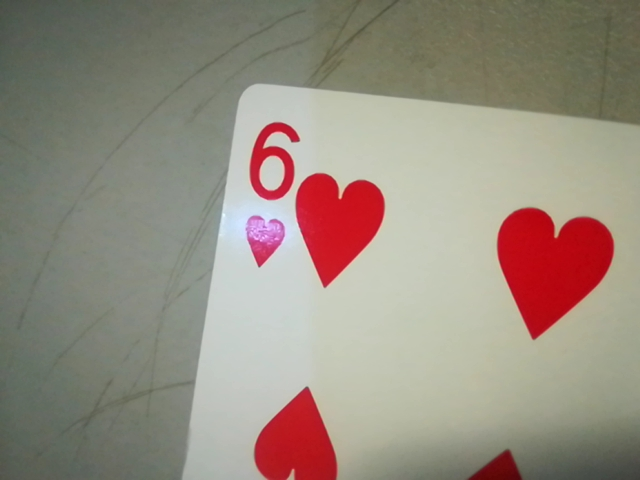hx 6: (234, 110, 304, 283)
